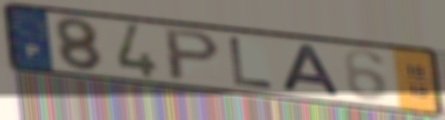4: (114, 21, 162, 81)
6: (341, 47, 392, 104)
8: (52, 15, 105, 74)
A: (277, 42, 345, 99)
L: (226, 35, 277, 92)
P: (163, 27, 224, 83)
